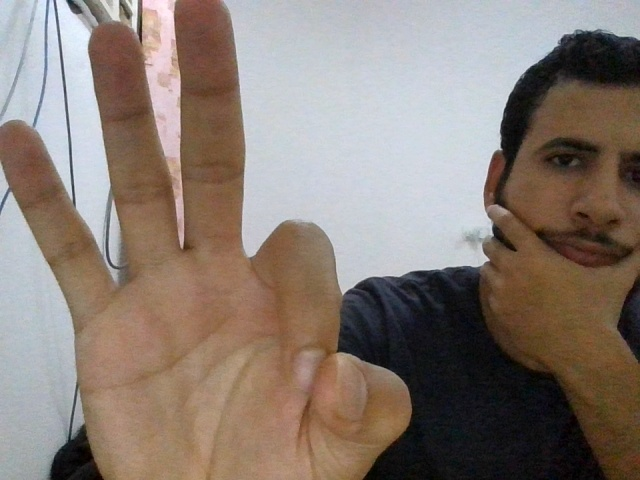Three: (1, 1, 414, 477)
